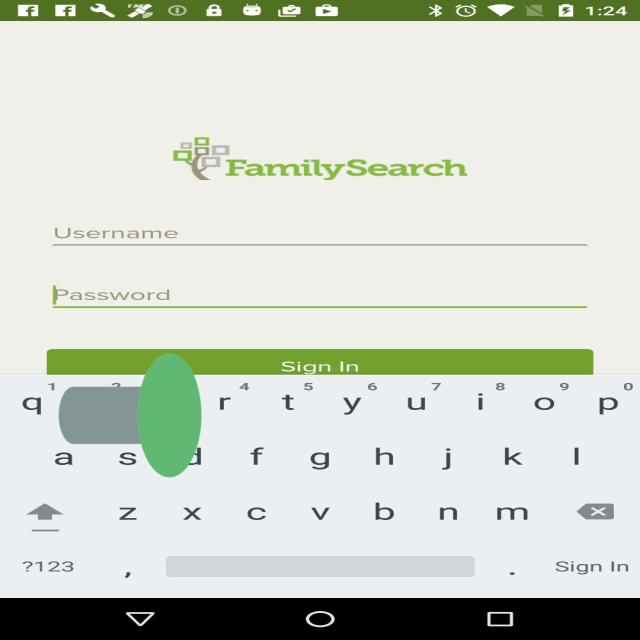social proof: (58, 277, 202, 554)
